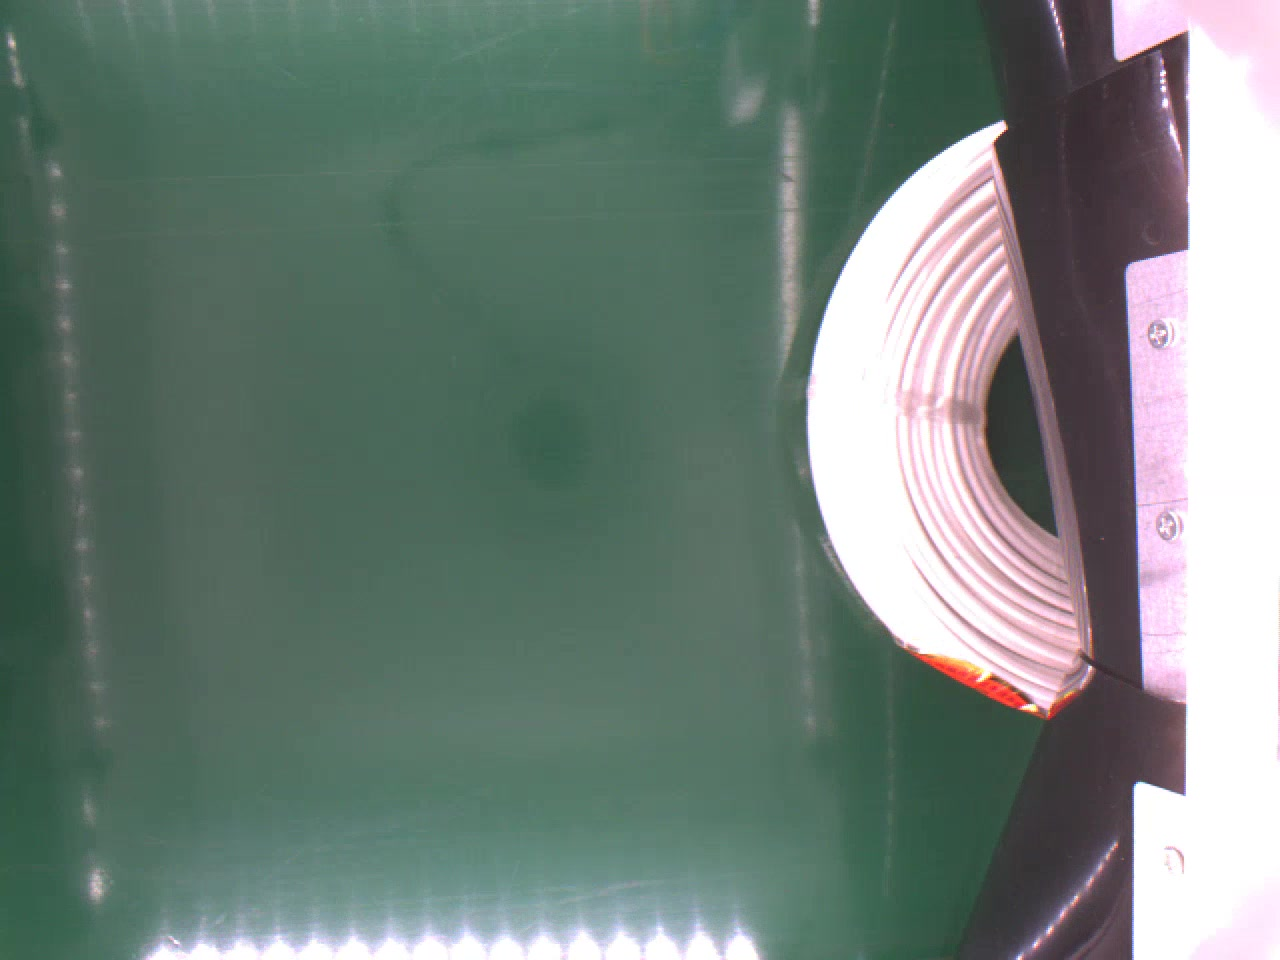white: (805, 115, 1082, 711)
